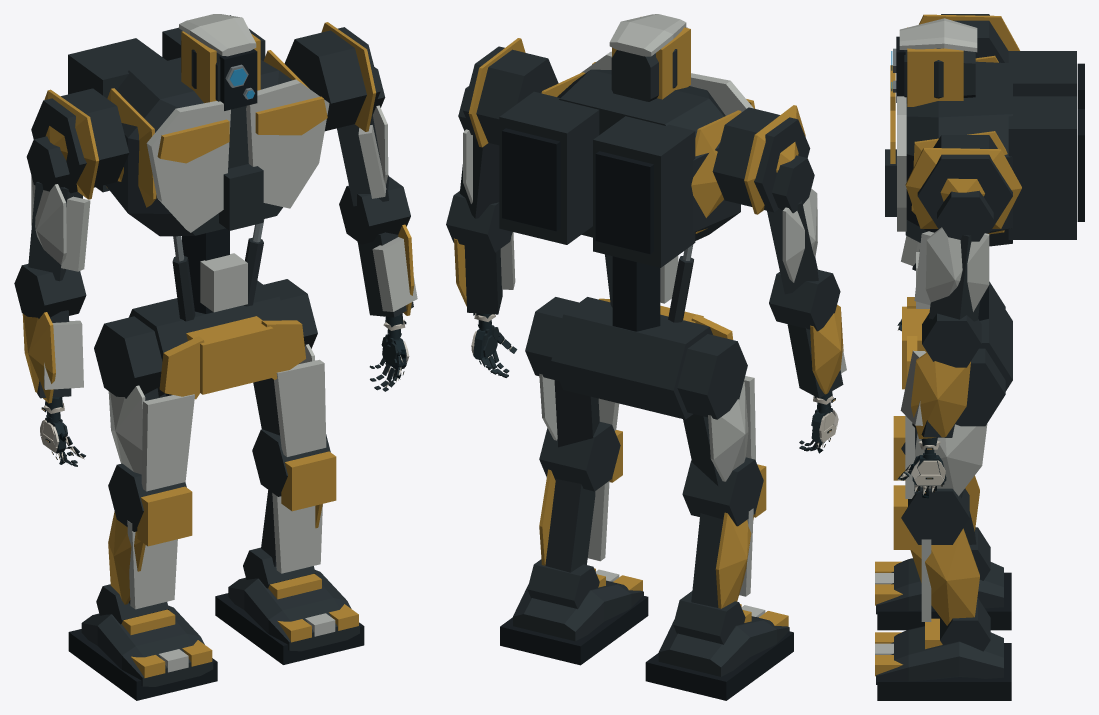
Rendered from c08_aurel_d0_lod2.glb.
The picture shows the model from 3 angles, left to right: view 1: azimuth 30°, elevation 25°; view 2: azimuth 150°, elevation 25°; view 3: azimuth 270°, elevation 25°; orthographic projection.
Visible parts, largest first — view 1: C08_SKIN; view 2: C08_SKIN; view 3: C08_SKIN.
Boxes of the visible parts, <box> form: C08_SKIN: <box>14,14,417,700</box>; C08_SKIN: <box>446,14,846,700</box>; C08_SKIN: <box>875,14,1084,700</box>.
Bounding box in the file's own units: 1.46 × 2.28 × 0.7045.
